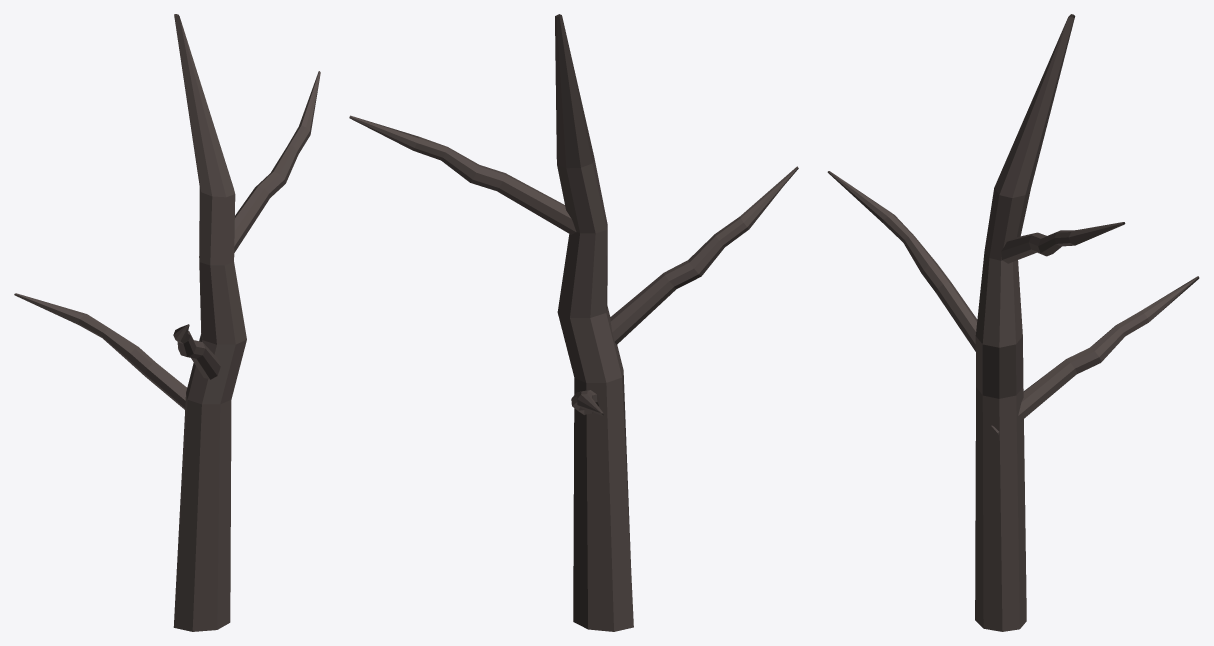
File: Tree_Style_1.fbx
The picture shows the model from 3 angles, left to right: view 1: azimuth 30°, elevation 25°; view 2: azimuth 150°, elevation 25°; view 3: azimuth 270°, elevation 25°; orthographic projection. The views are drawn at different scales.
Visible parts, largest first — view 1: Tree_Style_1; view 2: Tree_Style_1; view 3: Tree_Style_1.
Boxes of the visible parts, x1,y1,x2,y2 form: Tree_Style_1: (14, 14, 320, 631); Tree_Style_1: (349, 14, 798, 631); Tree_Style_1: (827, 14, 1199, 631).
Size of the model in its own units: 431 by 876 by 485.
1 material, 1 textured.
